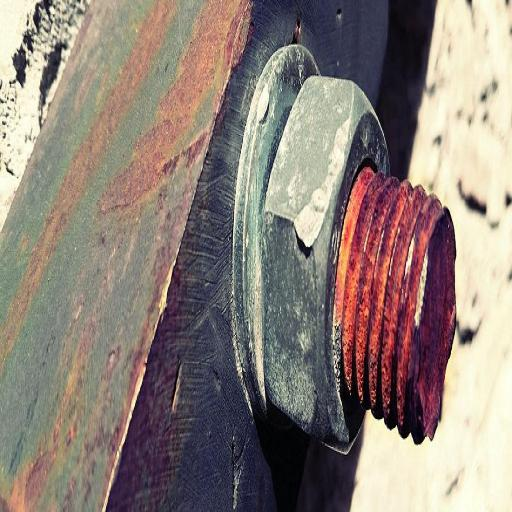segmentation: (0, 3, 172, 367), (333, 167, 455, 442), (115, 0, 248, 202), (160, 0, 246, 113), (160, 68, 199, 135), (195, 27, 216, 90)
